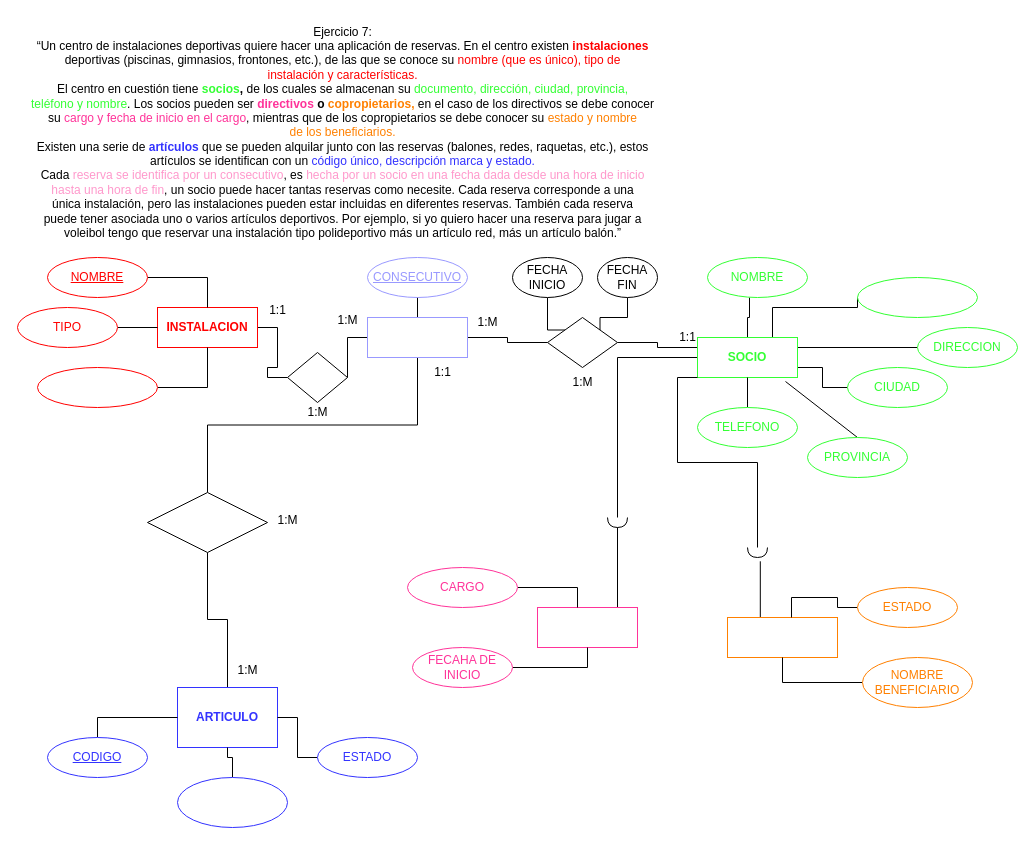
Some shapes in this 1035 by 845 pixel diagram are drawn without their labels. The box of each missing label's shape, as (x1, y1, x2, y2) in pixels:
CARACTERISTICA: (36, 366, 158, 408)
COPROPIETARIO: (726, 616, 838, 658)
DESCRIPCION MARCA: (176, 776, 288, 828)
DIRECTIVO: (536, 606, 638, 648)
ESTA: (286, 352, 348, 402)
HACE: (546, 316, 618, 368)
IDENTIFICACION: (856, 276, 978, 318)
INCLUYE: (146, 492, 268, 552)
RESERVA: (366, 316, 468, 358)
